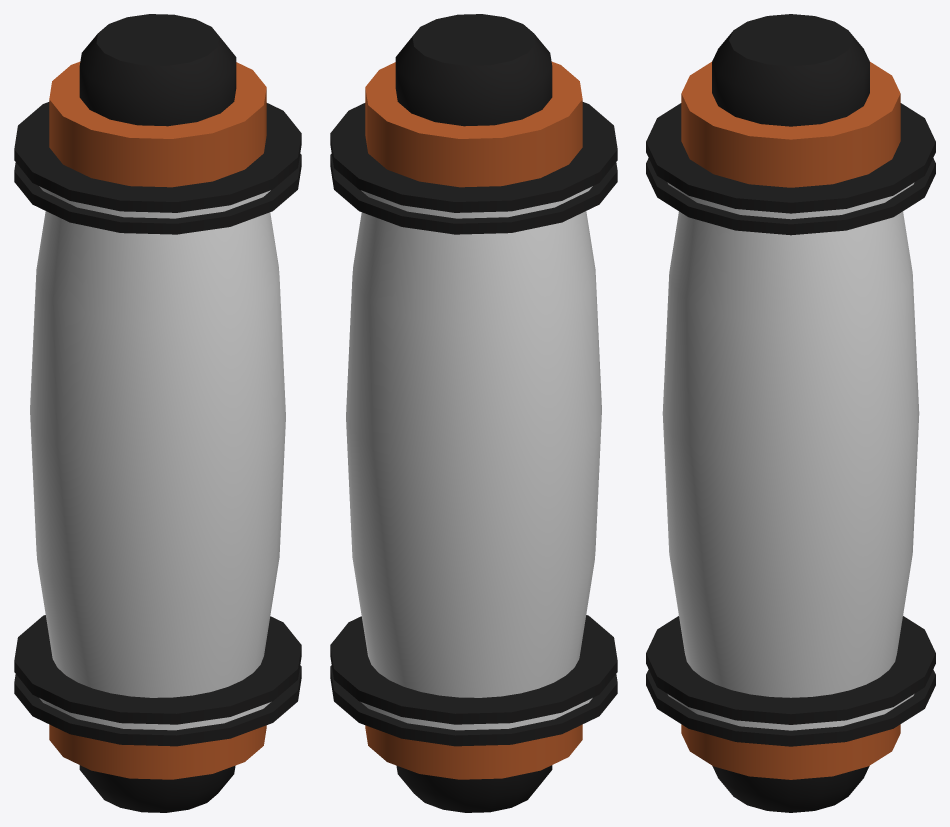
The model's file is powerup_crystal.fbx.
The picture shows the model from 3 angles, left to right: view 1: azimuth 30°, elevation 25°; view 2: azimuth 150°, elevation 25°; view 3: azimuth 270°, elevation 25°; orthographic projection.
Parts seen in each view (by area): view 1: Cylinder.001, Cylinder; view 2: Cylinder.001, Cylinder; view 3: Cylinder.001, Cylinder.
Part boxes in pixels (x1=…): Cylinder.001: x1=30, y1=211, x2=285, y2=697; Cylinder: x1=14, y1=14, x2=301, y2=812; Cylinder.001: x1=346, y1=211, x2=601, y2=697; Cylinder: x1=330, y1=14, x2=617, y2=812; Cylinder.001: x1=662, y1=211, x2=919, y2=697; Cylinder: x1=646, y1=14, x2=935, y2=812.
Size of the model in its own units: 440 by 1250 by 440.
